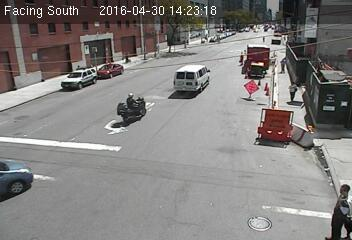neg: (115, 85, 146, 126), (106, 8, 123, 31), (189, 16, 204, 36)
pos: (317, 180, 351, 237), (274, 54, 290, 75), (284, 81, 299, 101), (235, 49, 246, 63), (260, 34, 267, 42)
